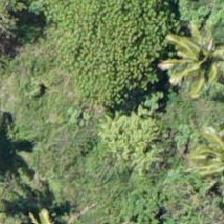coconut_tree: (157, 9, 223, 99)
